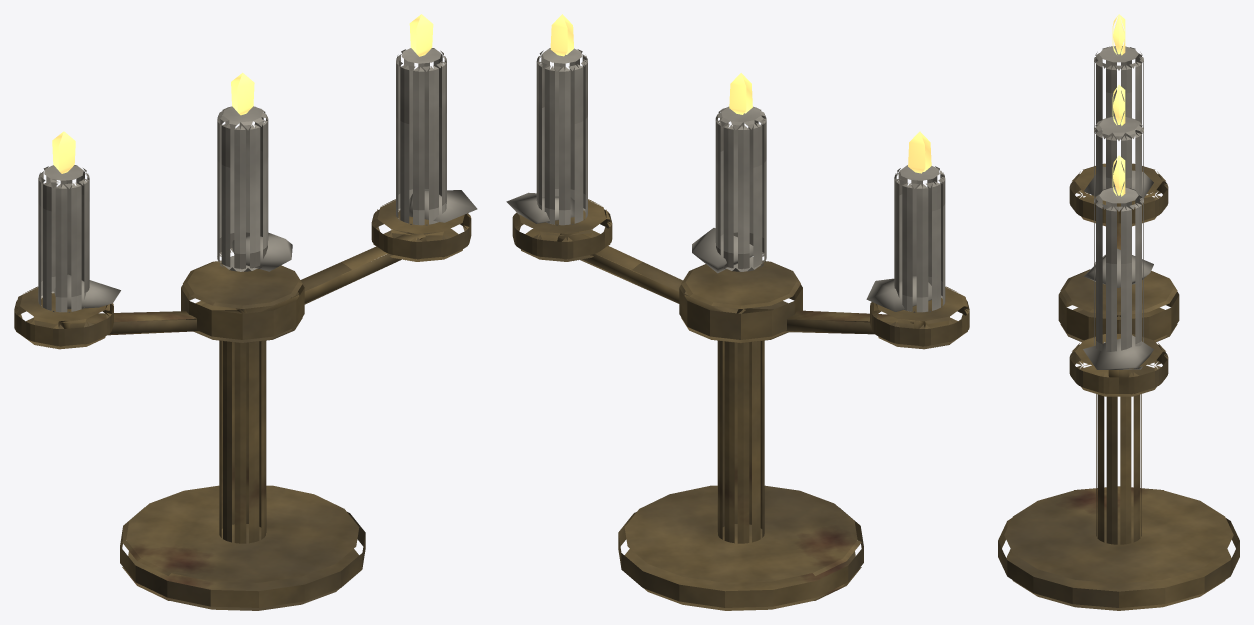
Rendered from U04_candlestick_v3.glb.
The picture shows the model from 3 angles, left to right: view 1: azimuth 30°, elevation 25°; view 2: azimuth 150°, elevation 25°; view 3: azimuth 270°, elevation 25°; orthographic projection. The views are drawn at different scales.
Parts seen in each view (by area): view 1: U04_candlestick_v3; view 2: U04_candlestick_v3; view 3: U04_candlestick_v3.
Boxes of the visible parts, box(x1,y1,x2,y2) form: U04_candlestick_v3: box(14, 14, 477, 610); U04_candlestick_v3: box(506, 14, 969, 610); U04_candlestick_v3: box(998, 14, 1239, 610).
Bounding box in the file's own units: 0.279 × 0.3 × 0.1336.
Materials: 3 (3 with a texture image).
